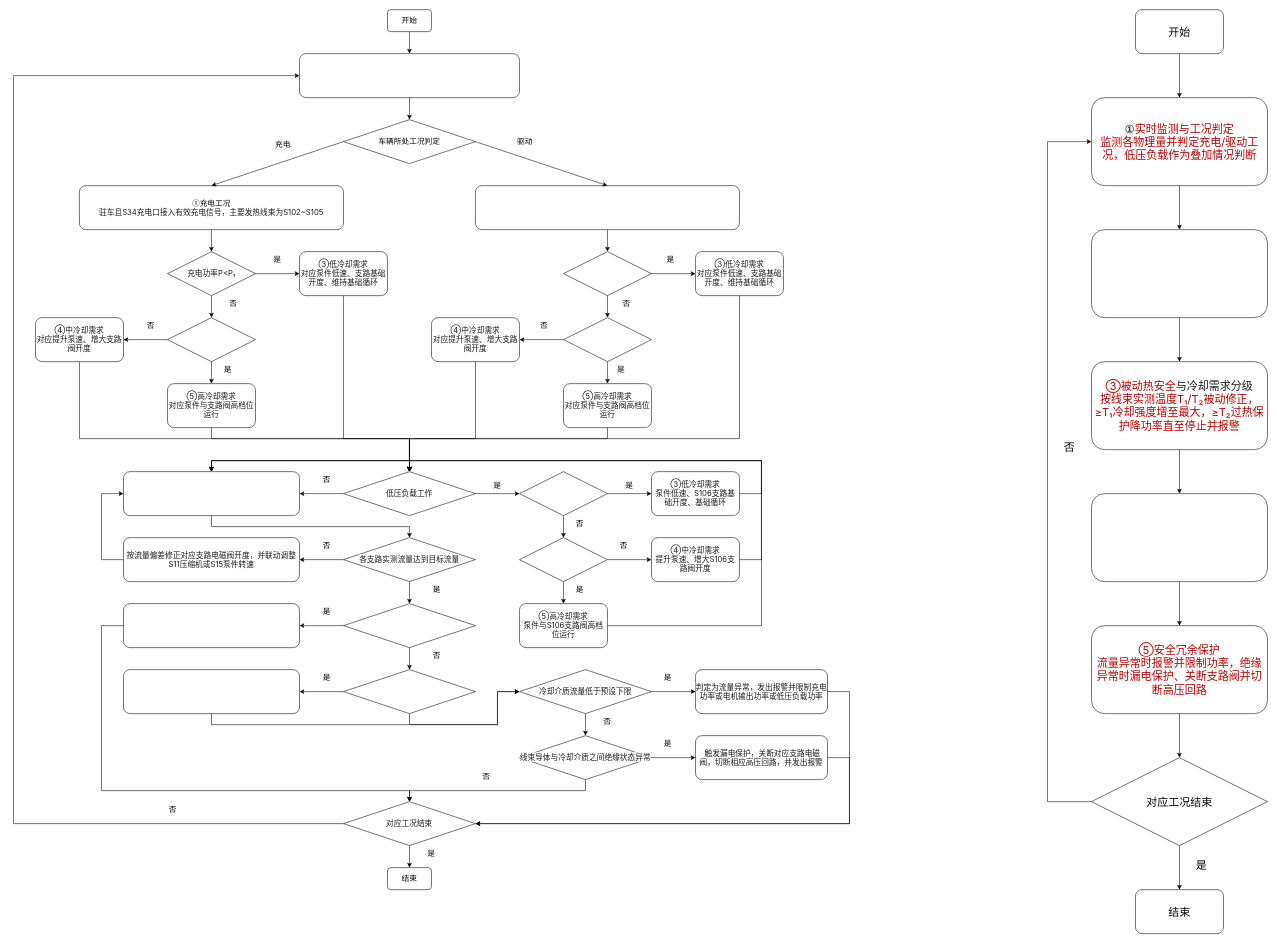
The diagram is 1277 pixels wide and 943 high, and some of its shapes have lost their labels. Each missing label, with the centre of its shape:
S12TMS协同整车控制器监测充电功率/电机负载/低压负载、各高压冷却集成线束温度、冷却介质温度与流量、线束导体与冷却介质之间的绝缘状态: (x=409, y=75)
S12TMS汇总各回路冷却需求，按总需求确定S11压缩机或S15泵件转速，按各回路需求比例分配S14相关阀件及各支路电磁阀开度: (x=211, y=493)
② 主动热安全 与冷却需求分级 按 P₁/P₂、L₁/L₂、L₃/L₄ 阈值主动分低/中/高三档冷却需求: (x=1179, y=273)
②驱动工况 非驻车且驱动信号有效， 主要发热线束为S102和S107: (x=607, y=207)
④ 热管理与分配 需求汇总耦合分配，按总需求定泵速、按比例分配阀开度，流量闭环补偿: (x=1179, y=537)
任一所监测高压冷却集成线束温度≥T₁: (x=409, y=691)
任一所监测高压冷却集成线束温度≥T₂: (x=409, y=625)
低压负载 L<L₃: (x=563, y=493)
低压负载 L≥L₄: (x=563, y=559)
充电功率P≥P₂: (x=211, y=339)
电机负载 L<L₁: (x=607, y=273)
电机负载 L≥L₂: (x=607, y=339)
触发过热保护， 逐级降低充电功率或电机输出功率或低压输出功率 直至停止，并发出报警: (x=211, y=625)
进一步增大冷却强度， S11压缩机或S15泵件转速与对应支路电磁阀开度增至最大: (x=211, y=691)
